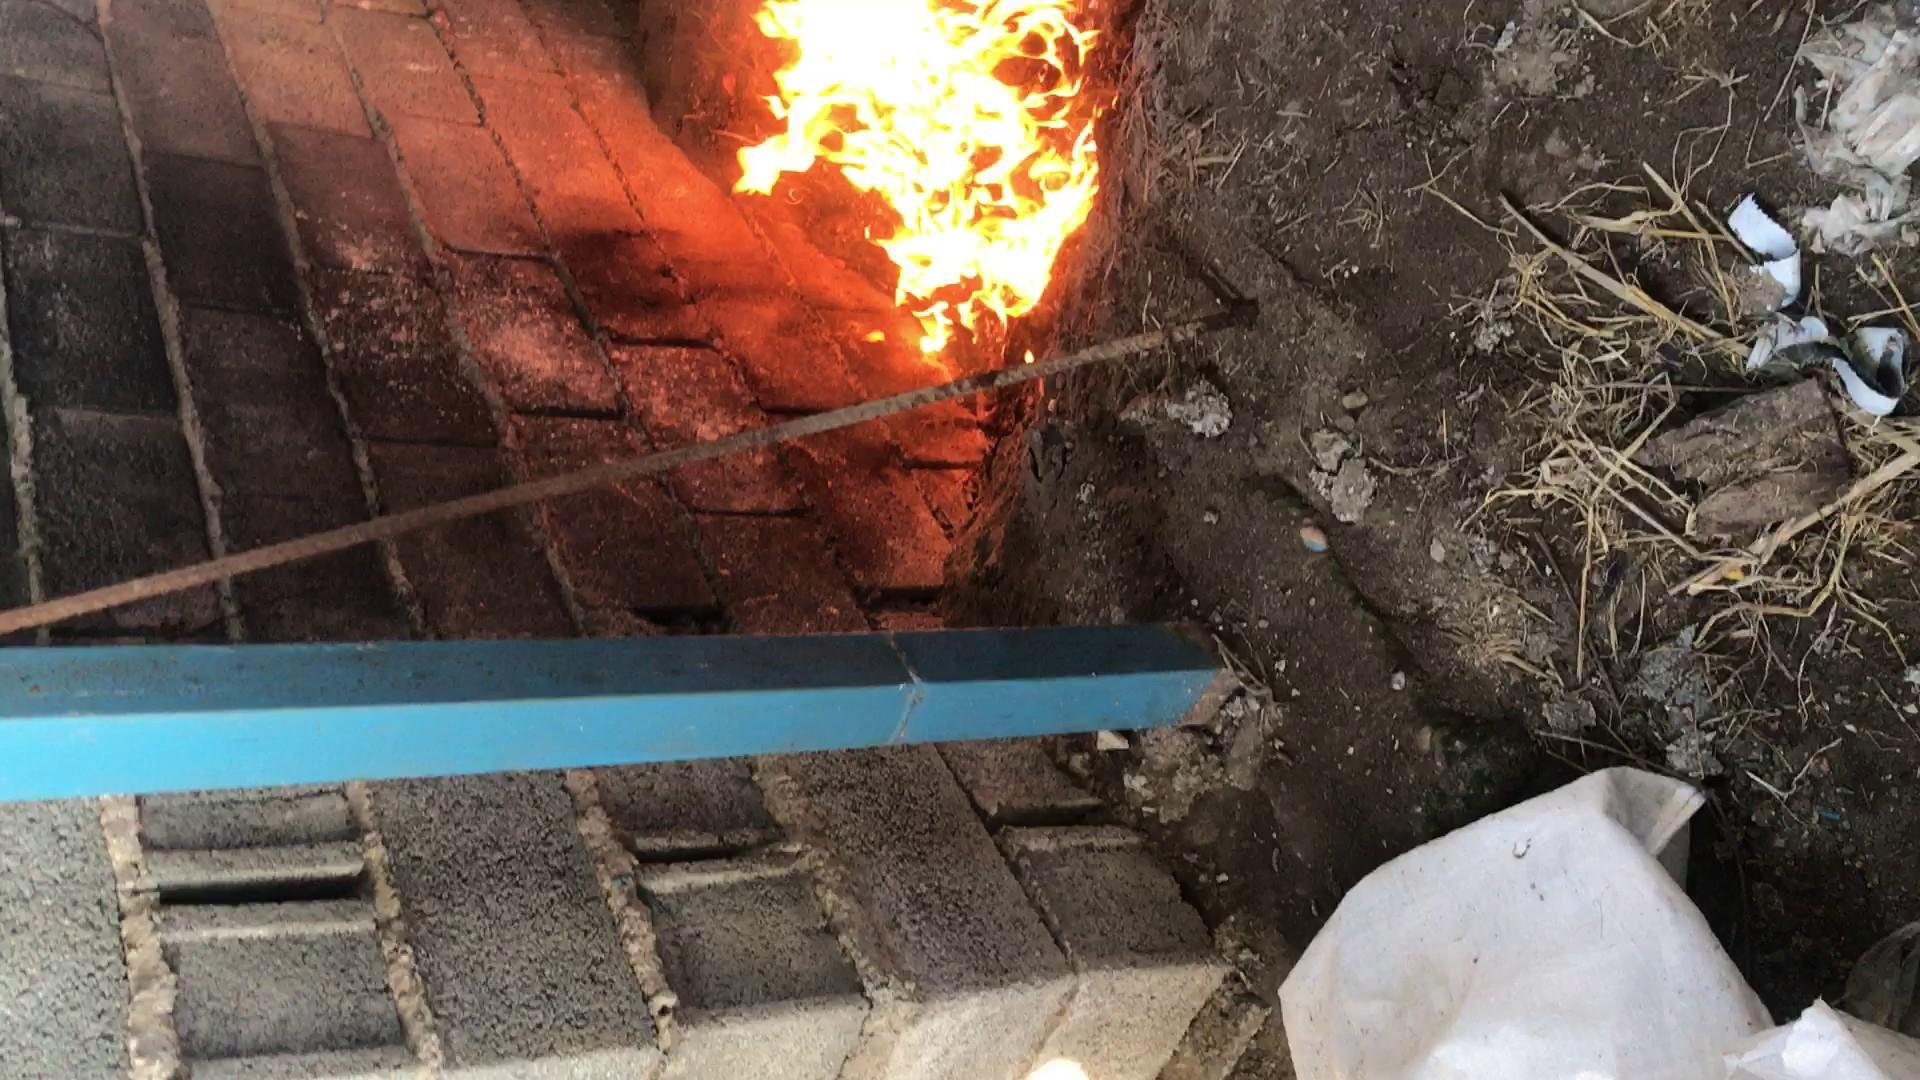fire: (1342, 402, 1920, 613)
